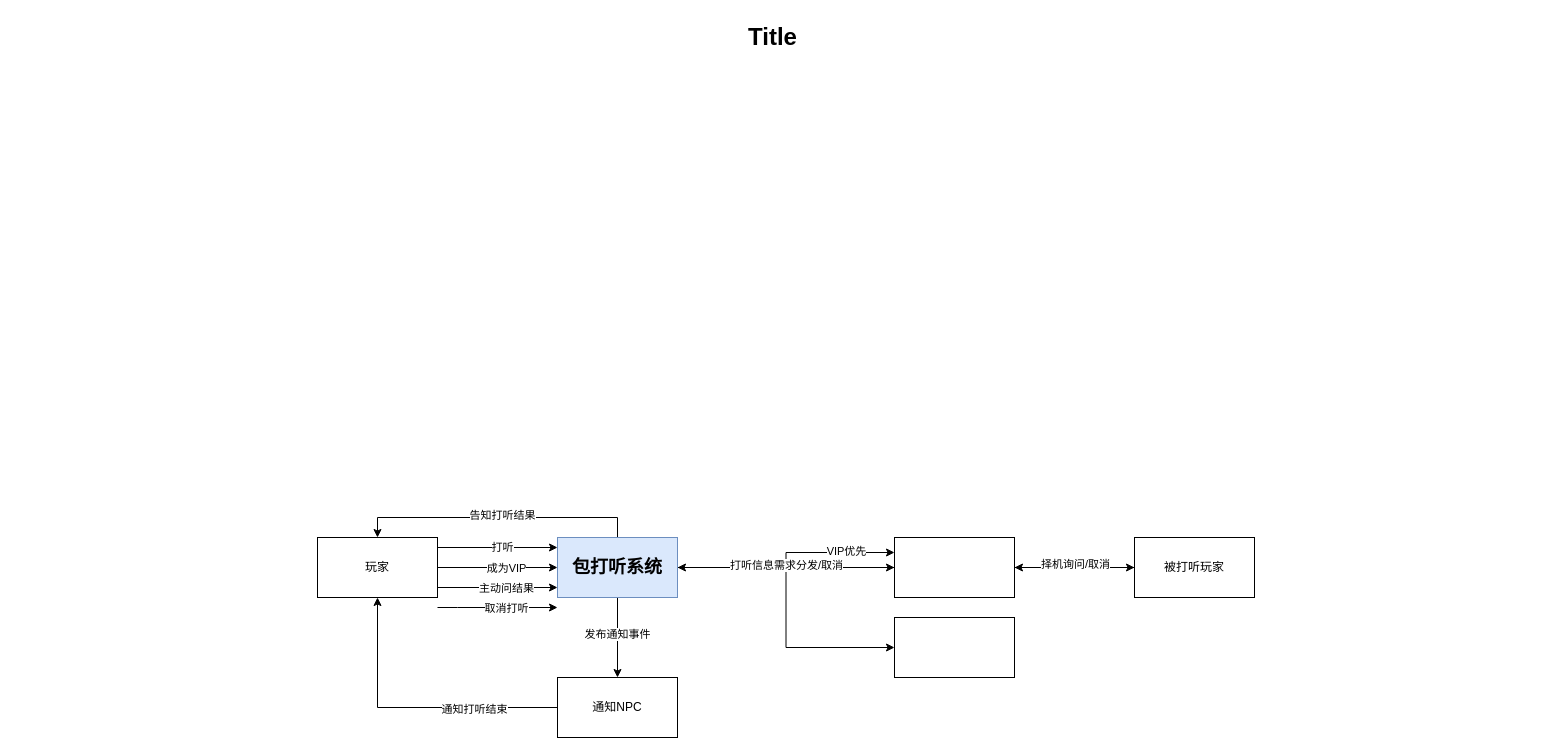
The diagram is 1544 pixels wide and 755 high, and some of its shapes have lost their labels. Here are the shapes that lost their labels. From the top down, the centre of each, then its label:
At (954,567): "各NPC".
At (954,647): "系统数据库".
